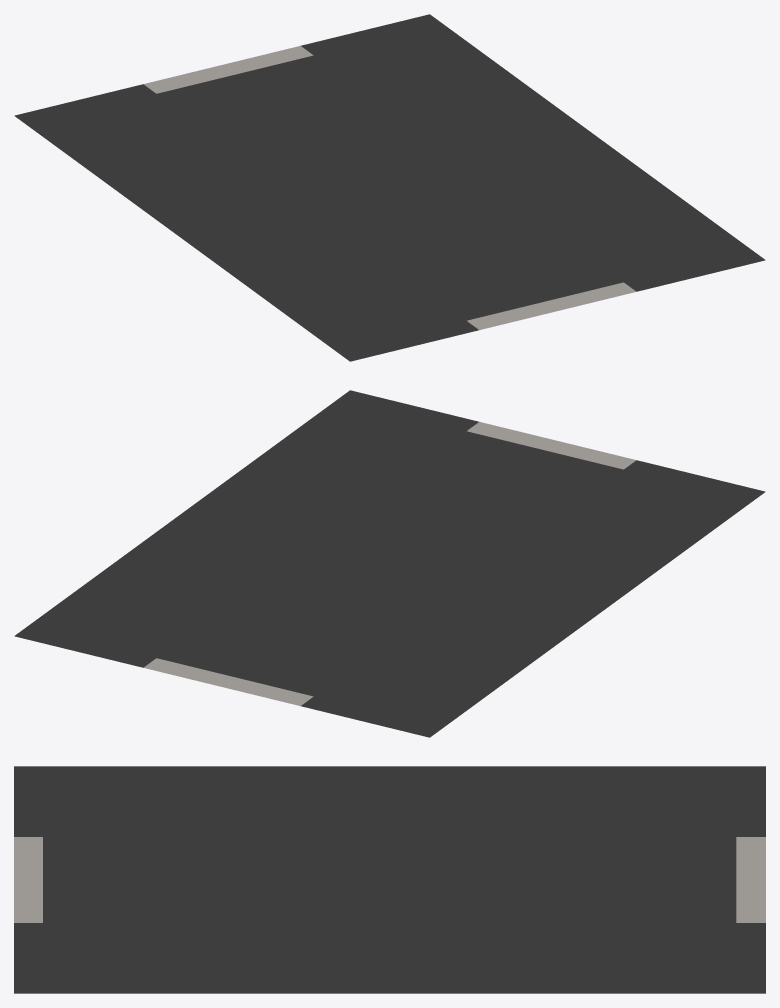
The model's file is SA_Env_RoadLane_Straight_01.gltf.
3 renders of one model, top to bottom at view 1: azimuth 30°, elevation 25°; view 2: azimuth 150°, elevation 25°; view 3: azimuth 270°, elevation 25°, orthographic. The views are drawn at different scales.
Parts seen in each view (by area): view 1: SA_Env_RoadLane_Straight_01; view 2: SA_Env_RoadLane_Straight_01; view 3: SA_Env_RoadLane_Straight_01.
Part boxes in pixels (x1,y1,x2,y2): SA_Env_RoadLane_Straight_01: [14, 14, 765, 361]; SA_Env_RoadLane_Straight_01: [14, 390, 765, 737]; SA_Env_RoadLane_Straight_01: [14, 766, 765, 993].
Bounding box in the file's own units: 5 × 1.18e-06 × 7.
Materials: 1 (1 with a texture image).
